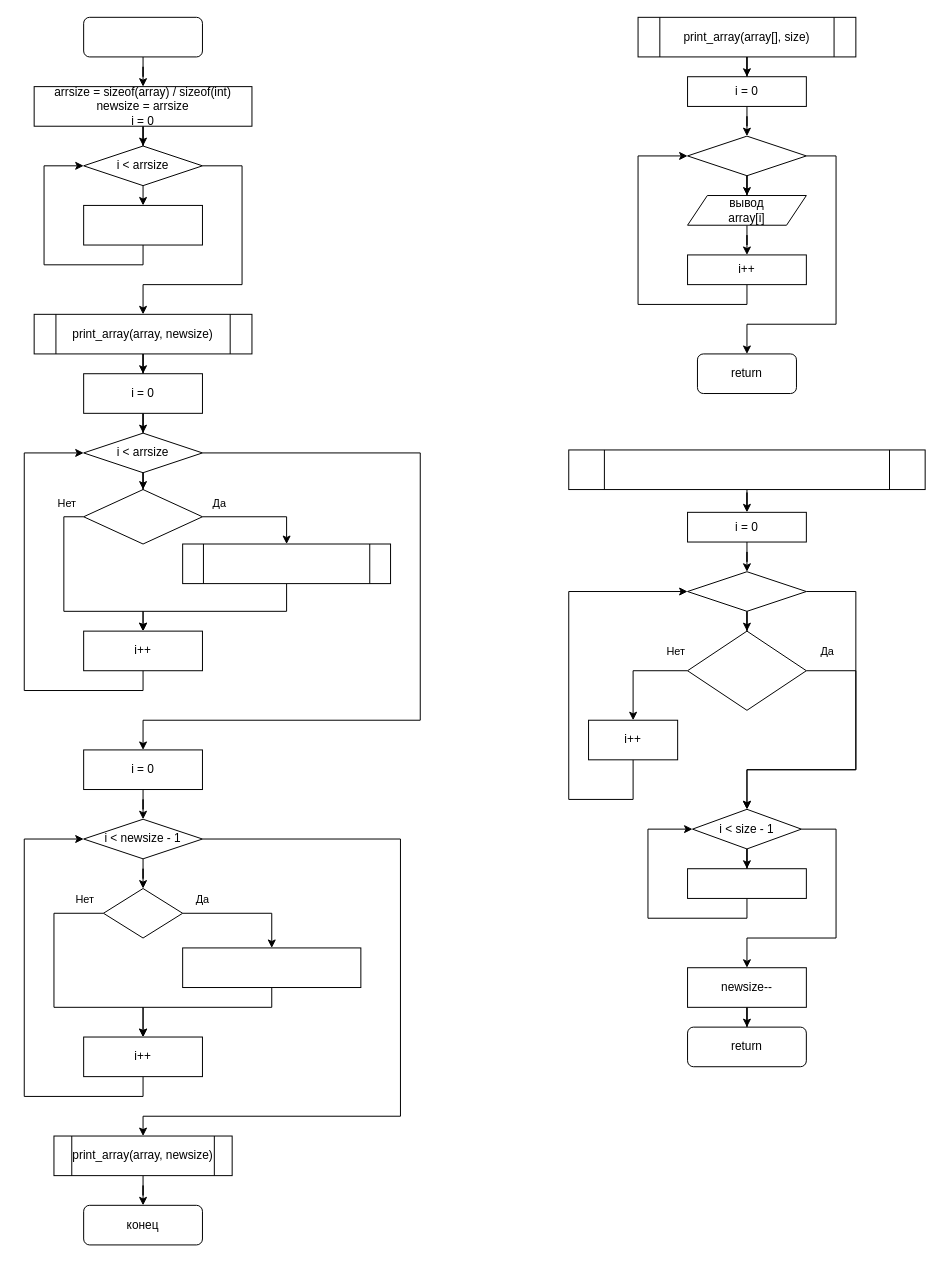
This 942x1262 diagram has some shape labels left out. The centre of each missing label's shape, as x and y in pixels:
"array[i + 1] = abs(array[i - 1] + 1)" goes at (x=271, y=967).
"array[i] % 3 == 0" goes at (x=142, y=516).
"array[i] < 0" goes at (x=142, y=913).
"array[i] = array[i + 1] i++" goes at (x=746, y=883).
"array[i] = random() i++" goes at (x=142, y=224).
"array[i] == element" goes at (x=746, y=670).
"i < newsize" goes at (x=746, y=591).
"i < size" goes at (x=746, y=155).
"remove_from_array(array, &newsize, arrsize, array[i])" goes at (x=286, y=563).
"remove_from_array(array[], newsize, size, element)" goes at (x=746, y=469).
"начало" goes at (x=142, y=36).
